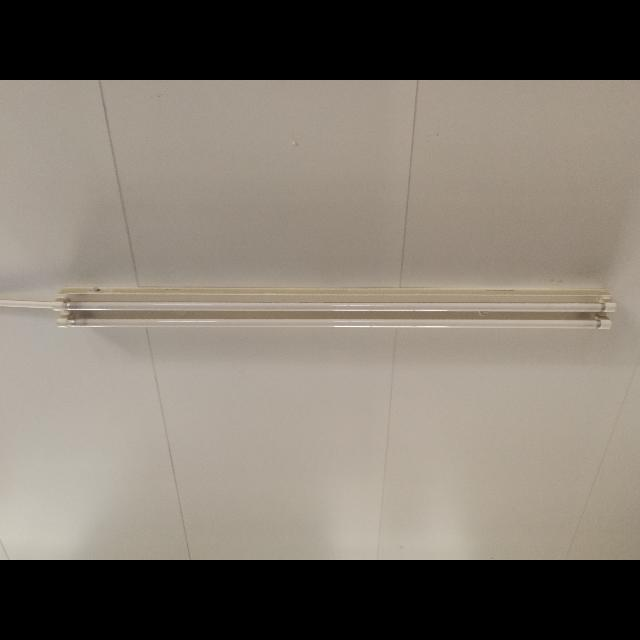Straight-Tube-Fluorescent-Lamp: (35, 270, 622, 352)
